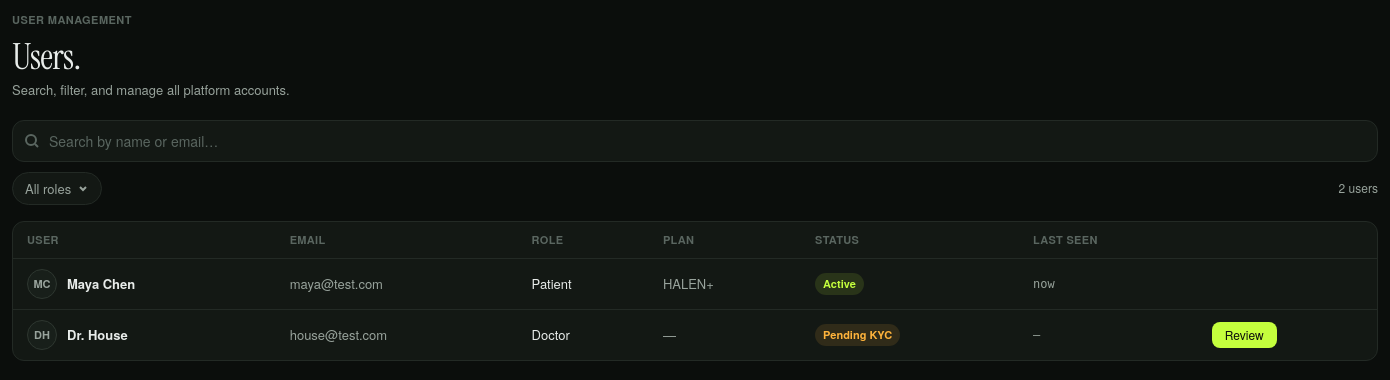
Scenario: AdminUsersPage › clicking a user row shows user detail panel
Click the text "Maya Chen": (695, 284) [13,259,1377,310]
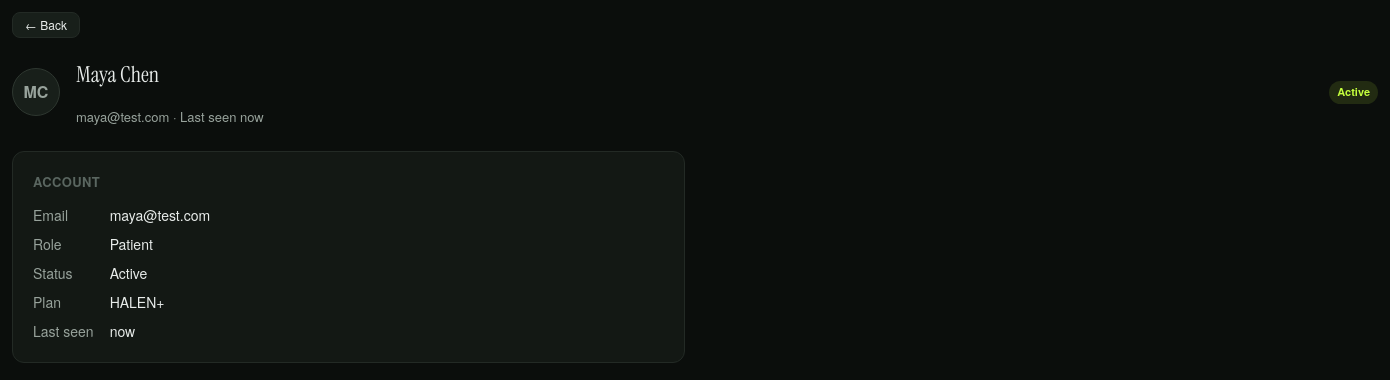
Expected: the heading "Maya Chen" is shown, [76,60,159,89]
Result: the text "maya@test.com · Last seen now" is shown at [76,107,264,126]
Result: the button "← Back" is shown at [12,12,80,38]
